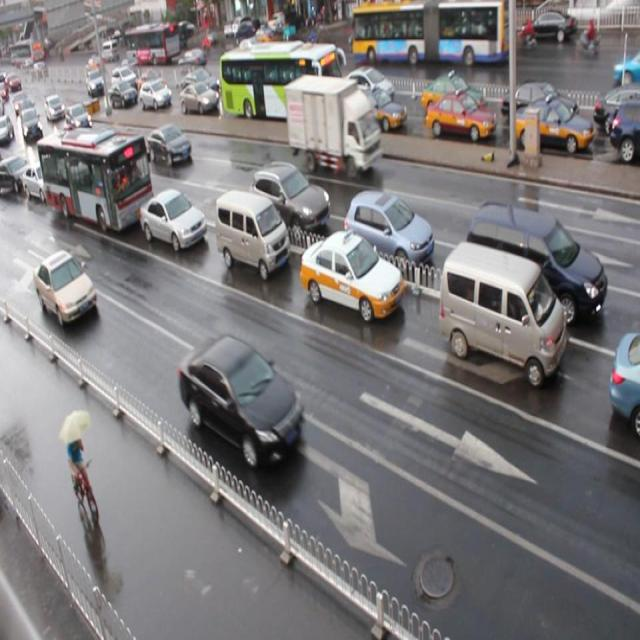bus: (285, 72, 383, 177)
car: (179, 334, 307, 471), (299, 228, 402, 322), (344, 195, 434, 276), (252, 162, 330, 235), (33, 250, 97, 328), (514, 99, 594, 158), (138, 187, 206, 252), (425, 92, 496, 143), (502, 82, 576, 128), (608, 331, 640, 435), (420, 76, 486, 121), (345, 86, 406, 134), (334, 66, 393, 111), (148, 122, 192, 168), (592, 92, 640, 134), (608, 99, 640, 160), (21, 158, 60, 203), (72, 133, 109, 176), (0, 153, 32, 192), (180, 83, 219, 114), (229, 69, 263, 103), (139, 80, 172, 112), (182, 69, 221, 96), (65, 106, 92, 135), (112, 65, 139, 94), (111, 81, 136, 110), (138, 69, 163, 92)
truck: (465, 198, 607, 332), (438, 240, 566, 388), (213, 187, 289, 280)
van: (37, 126, 154, 235), (216, 42, 339, 124)
